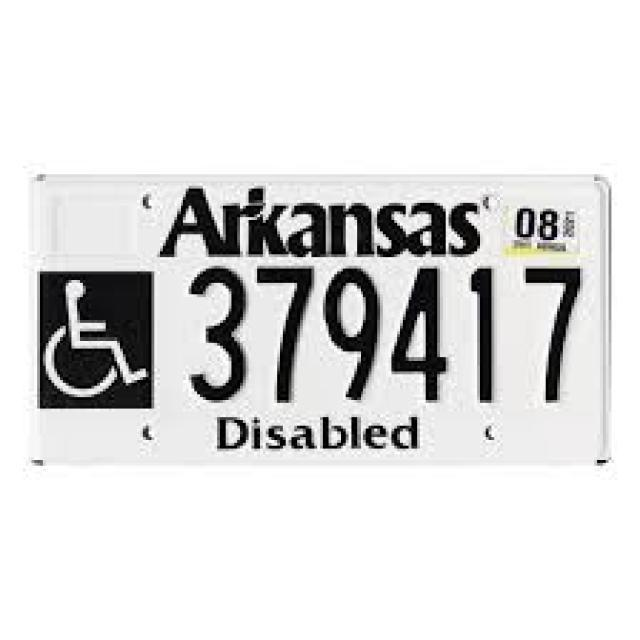symbol_of_access: (44, 276, 150, 401)
